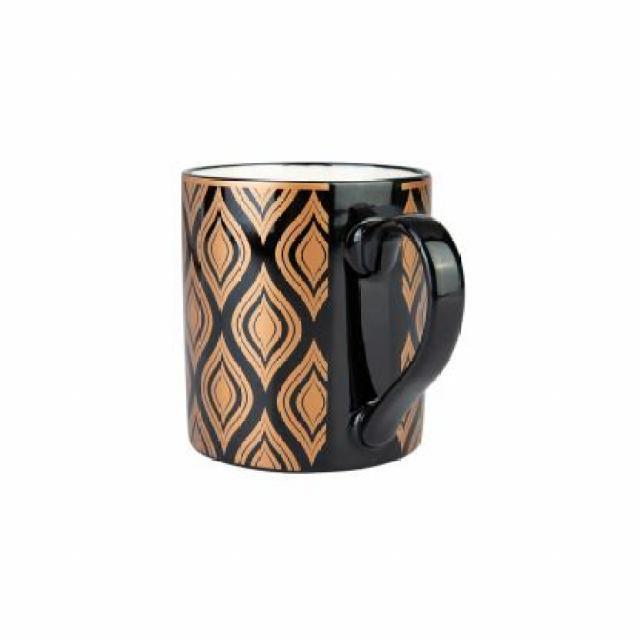taza: (178, 162, 472, 474)
